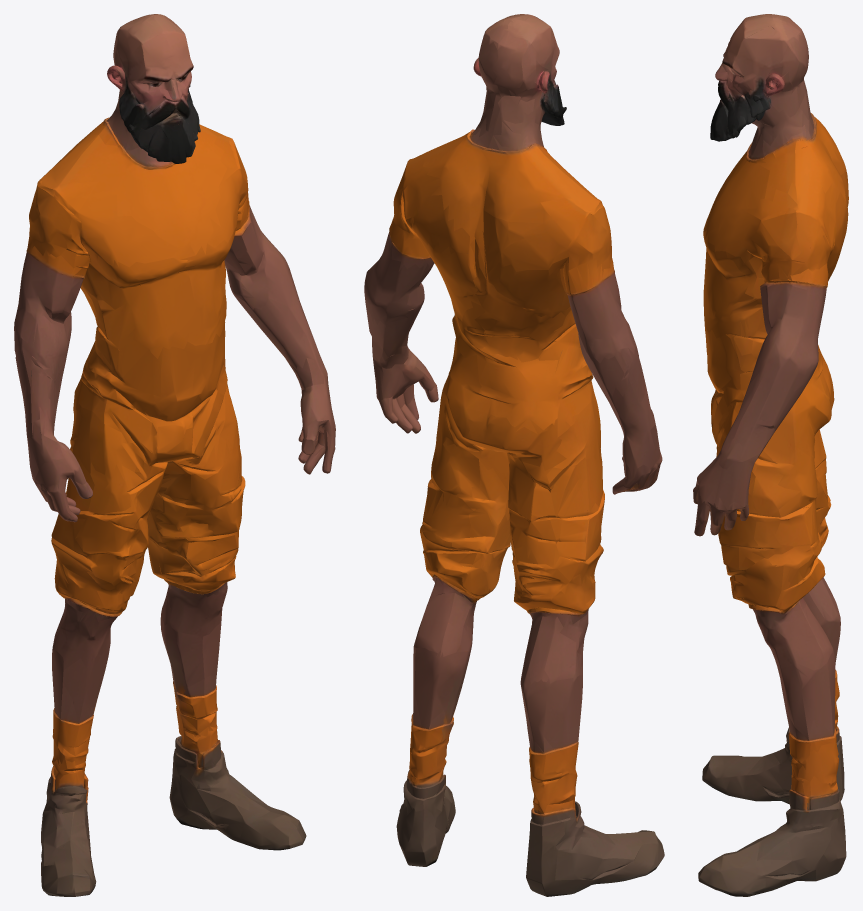
The model's file is A3-paint-tee.glb.
3 views of the same model, side by side, from view 1: azimuth 30°, elevation 25°; view 2: azimuth 150°, elevation 25°; view 3: azimuth 270°, elevation 25° (orthographic). The views are drawn at different scales.
Parts seen in each view (by area): view 1: Mesh_0; view 2: Mesh_0; view 3: Mesh_0.
Part boxes in pixels (x1,y1,x2,y2): Mesh_0: [14, 14, 335, 896]; Mesh_0: [364, 14, 664, 896]; Mesh_0: [693, 14, 848, 896].
Bounding box in the file's own units: 0.6752 × 1.9 × 0.3266.
Materials: 1 (1 with a texture image).
